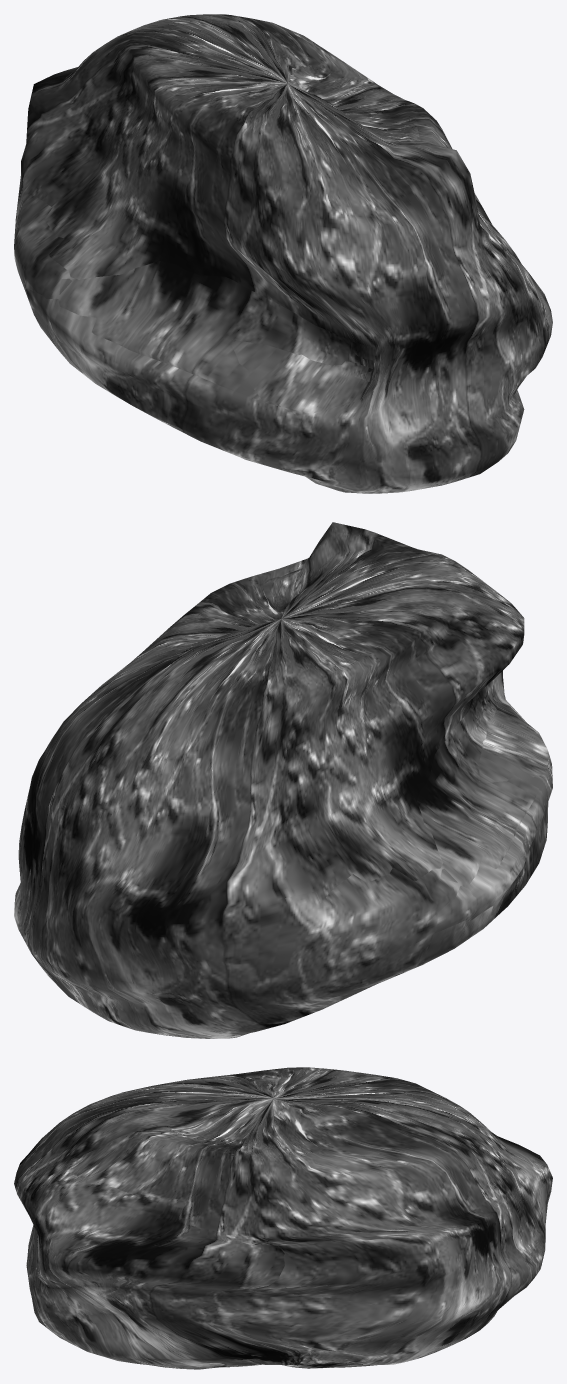
Rendered from PALAS_ASTEROID.fbx.
3 views of the same model, one above another, from view 1: azimuth 30°, elevation 25°; view 2: azimuth 150°, elevation 25°; view 3: azimuth 270°, elevation 25° (orthographic). The views are drawn at different scales.
Visible parts, largest first — view 1: pSphere1; view 2: pSphere1; view 3: pSphere1.
Boxes of the visible parts, x1,y1,x2,y2 form: pSphere1: (14,14,552,493); pSphere1: (14,522,552,1038); pSphere1: (14,1067,552,1369).
Size of the model in its own units: 11.62 by 10.41 by 18.97.
Materials: 1 (1 with a texture image).
